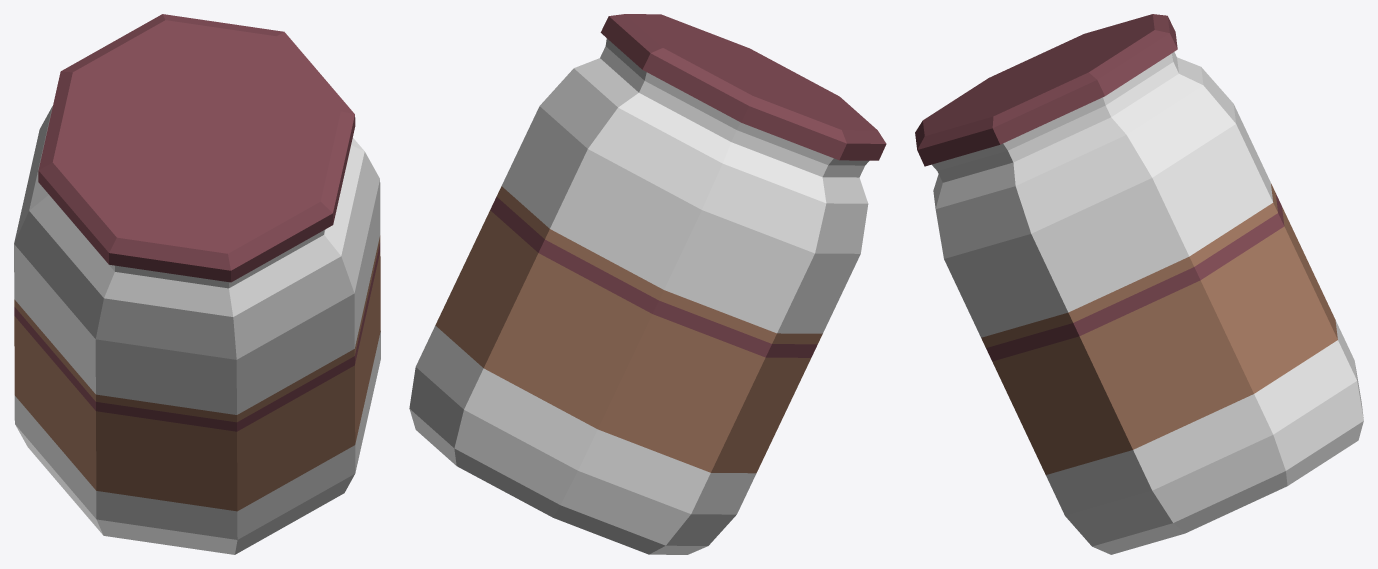
File: HotChocolate.fbx
3 renders of one model, left to right at view 1: azimuth 30°, elevation 25°; view 2: azimuth 150°, elevation 25°; view 3: azimuth 270°, elevation 25°, orthographic. The views are drawn at different scales.
Parts seen in each view (by area): view 1: HotChocolate; view 2: HotChocolate; view 3: HotChocolate.
Part boxes in pixels (x1,y1,x2,y2): HotChocolate: (14, 14, 380, 554); HotChocolate: (409, 14, 886, 554); HotChocolate: (915, 14, 1363, 554).
Size of the model in its own units: 92.24 by 124 by 103.
